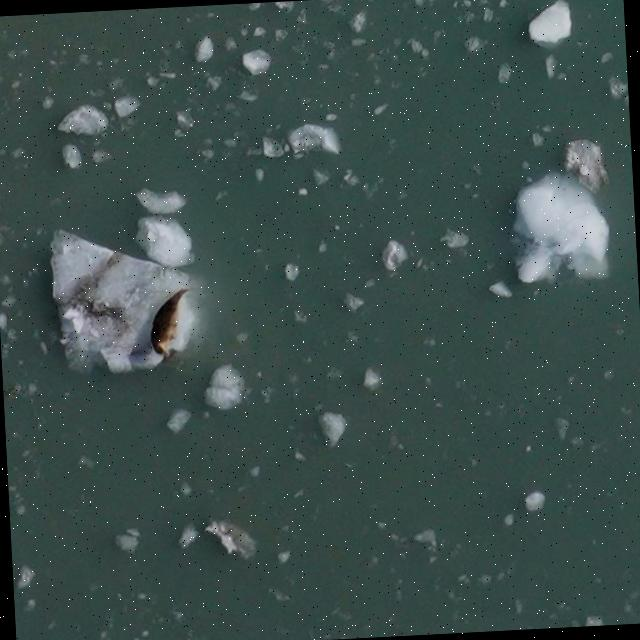seal: (146, 282, 189, 360)
